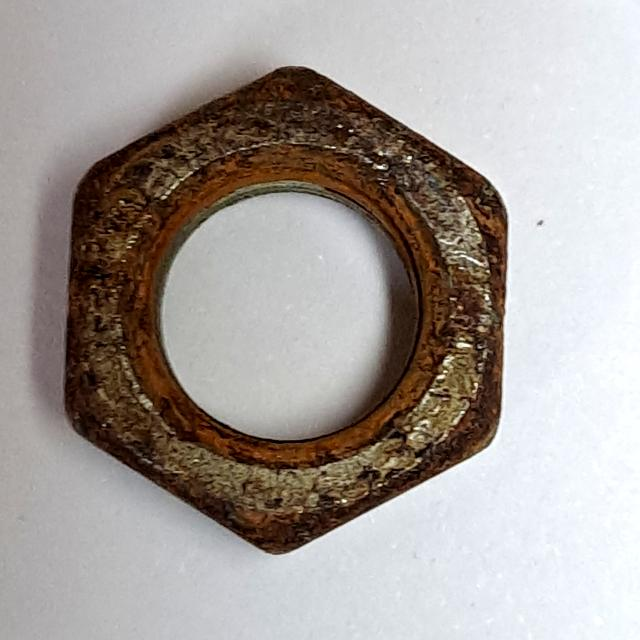Rust: (49, 44, 524, 573)
